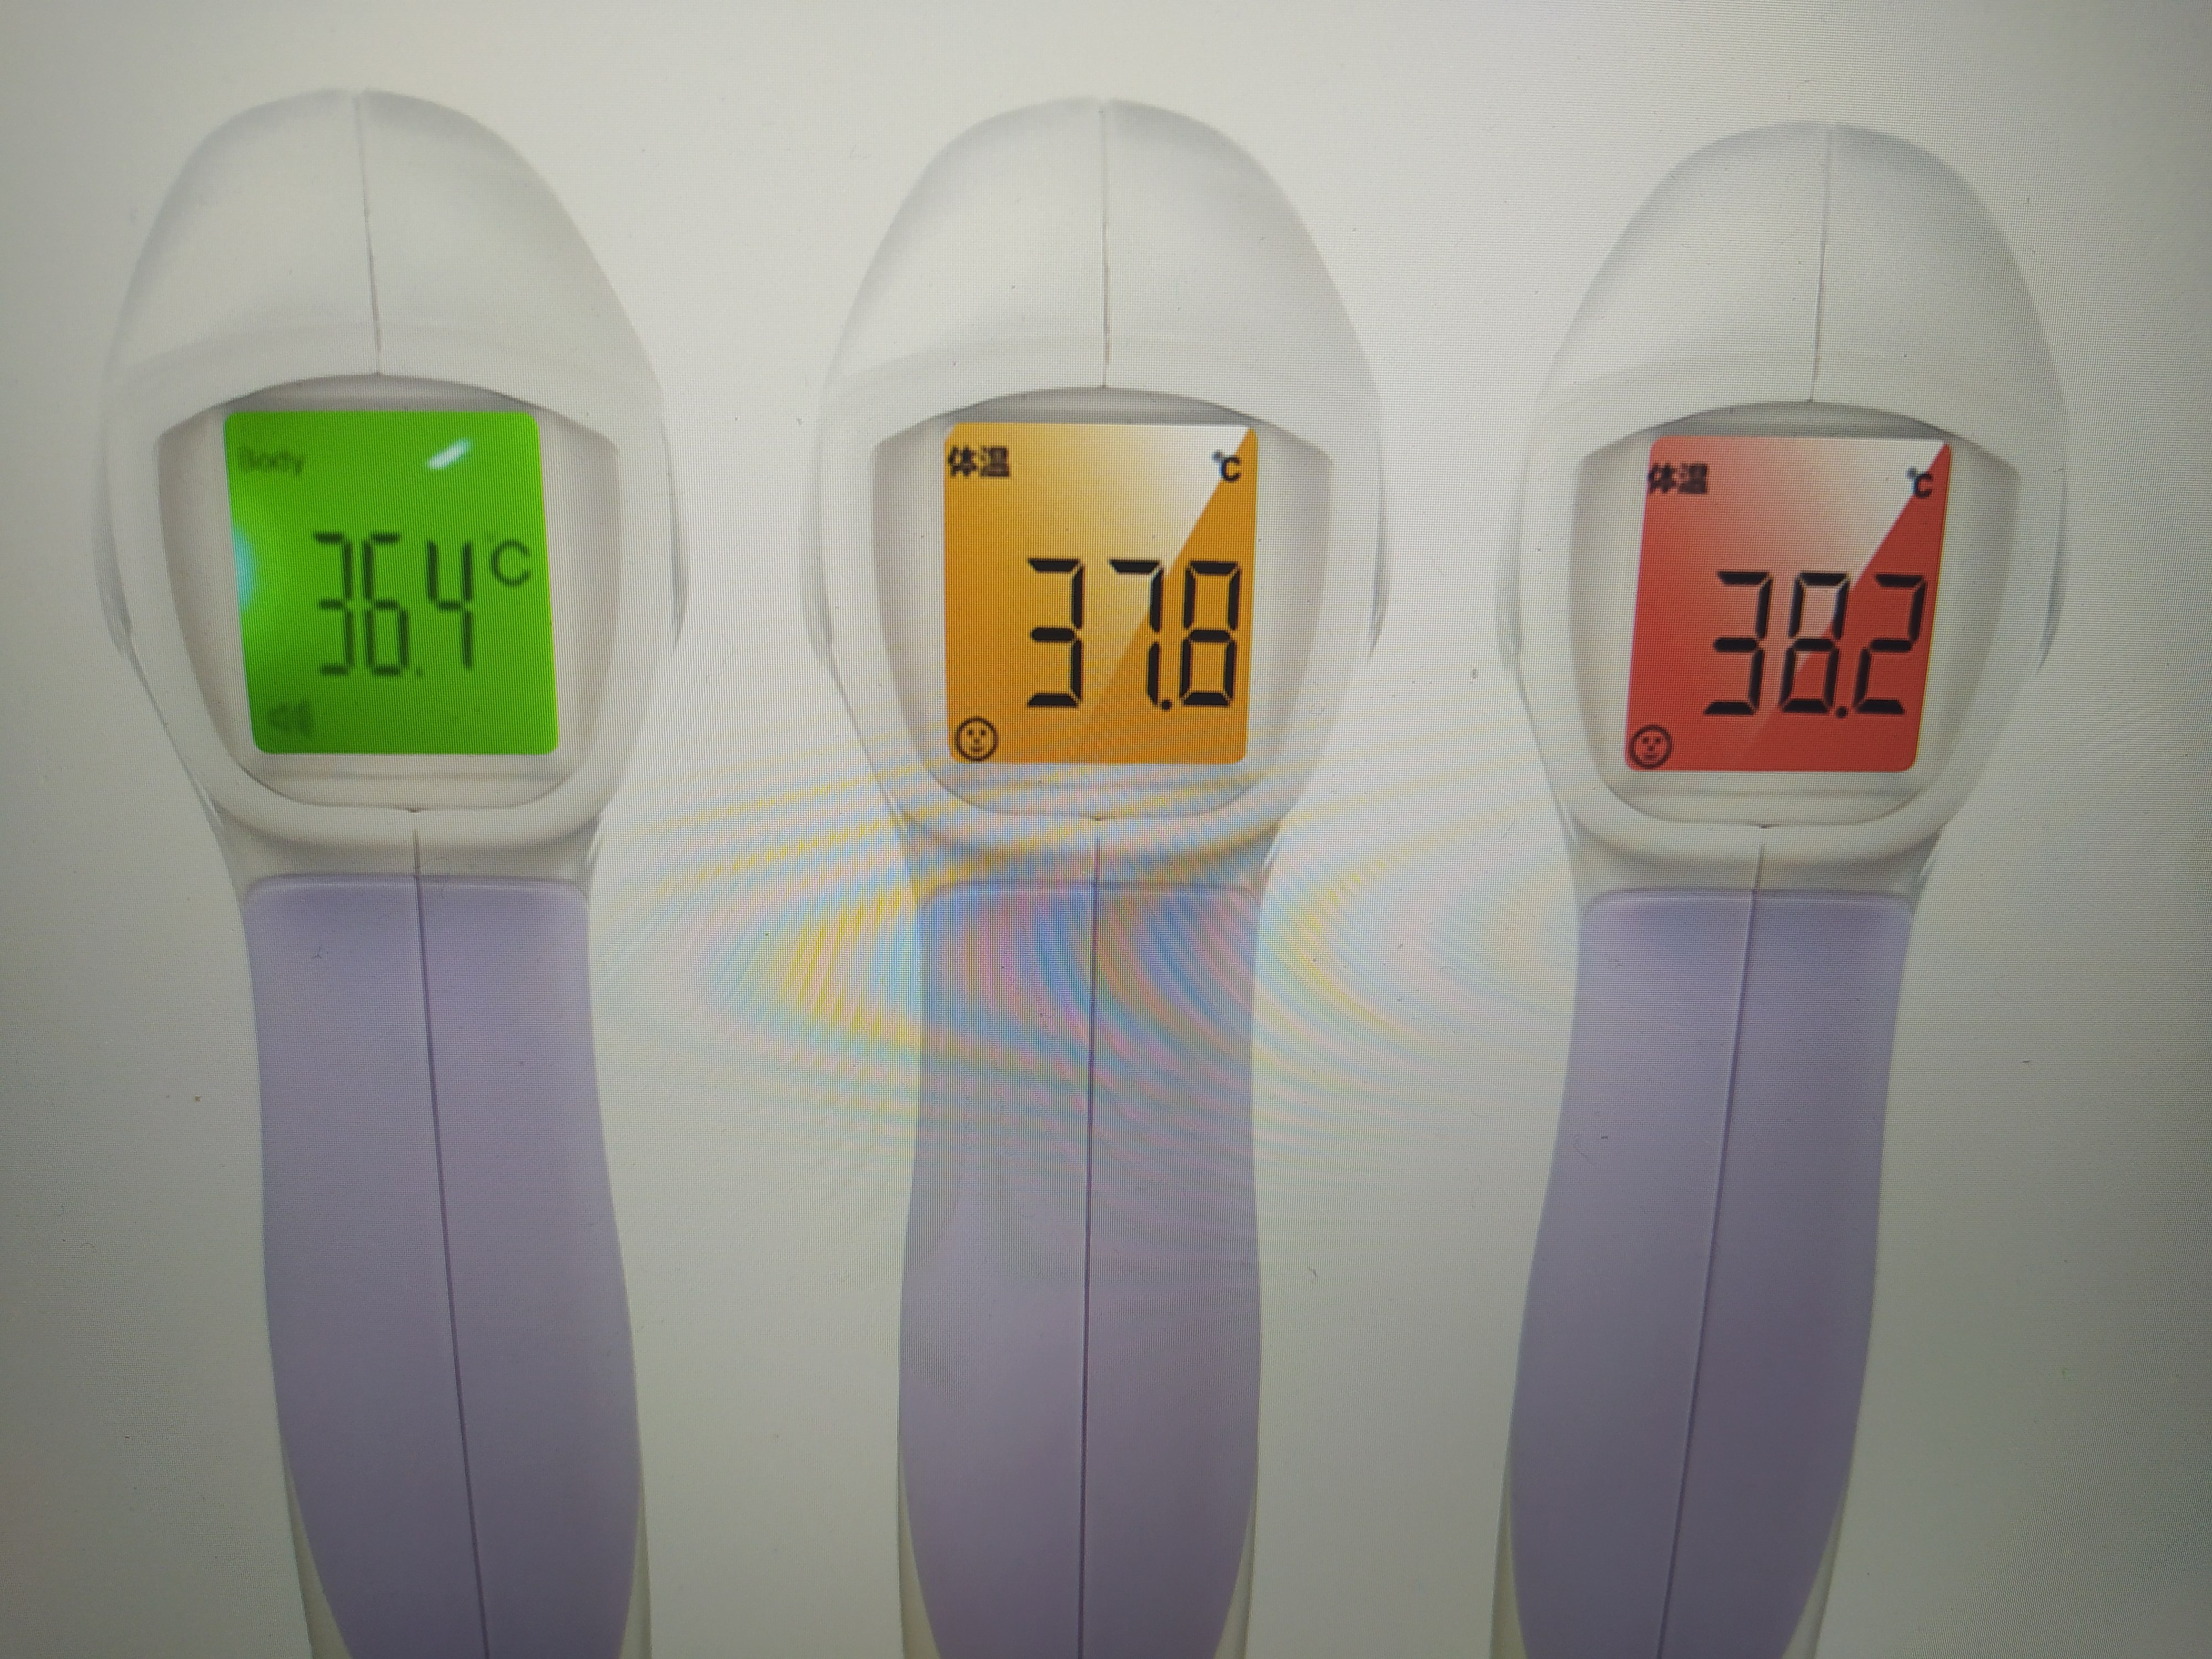.: (1162, 556, 1179, 716), (411, 530, 428, 688), (1839, 699, 1851, 725)
2: (1860, 572, 1926, 723)
3: (1710, 566, 1771, 723), (1029, 554, 1089, 714), (312, 523, 362, 678)
4: (423, 530, 484, 676)
6: (361, 530, 420, 681)
7: (1104, 559, 1160, 713)
8: (1181, 552, 1238, 716), (1777, 566, 1838, 718)
